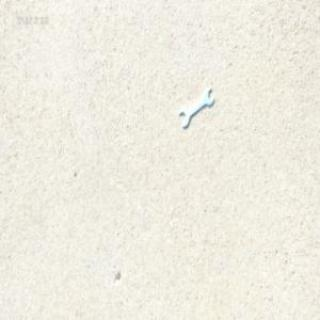Wrenchtrack_idkeyframe: (178, 87, 212, 127)
